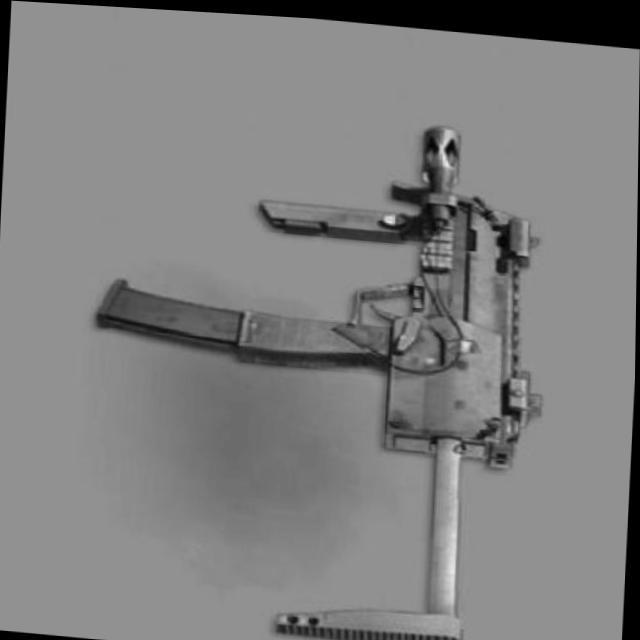weapon: (81, 88, 556, 640)
